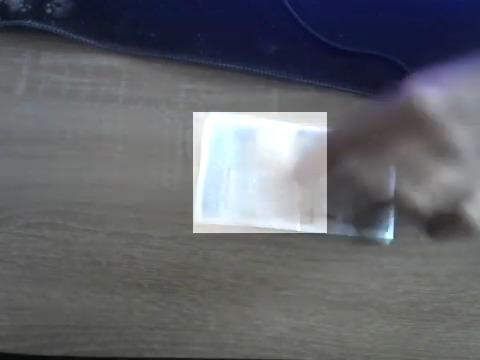20leva: (193, 112, 327, 233)
